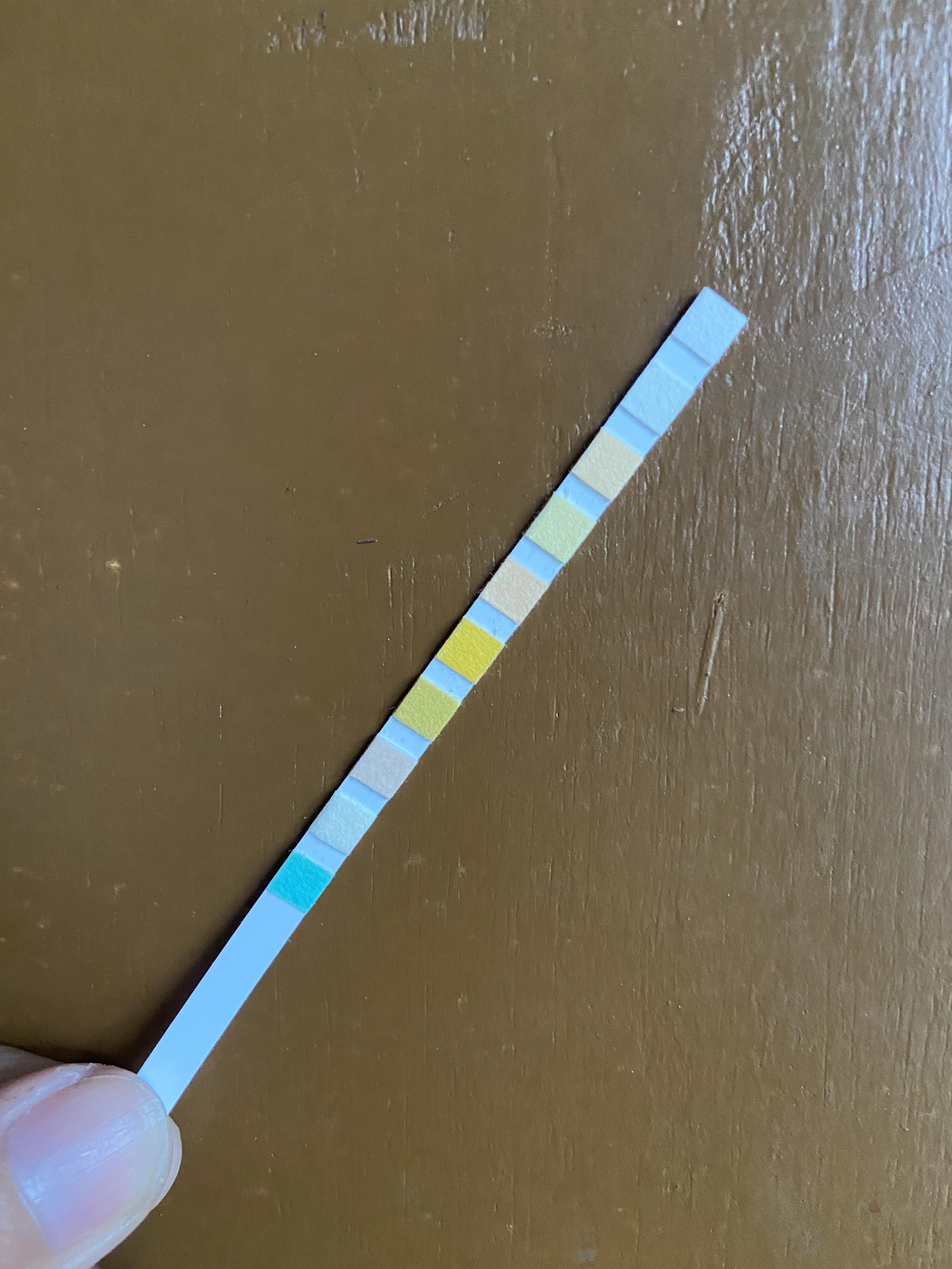Bilirubin: (326, 805, 361, 837)
Blood: (451, 636, 486, 668)
Glucose: (283, 866, 318, 898)
Ketone: (367, 751, 402, 783)
Leukocytes: (690, 305, 731, 346)
Nitrite: (637, 379, 677, 415)
Protein: (543, 511, 578, 543)
SpGravity: (408, 693, 443, 725)
Urobilinogen: (587, 447, 627, 483)
pH: (497, 575, 532, 606)
strip: (141, 286, 751, 1097)
